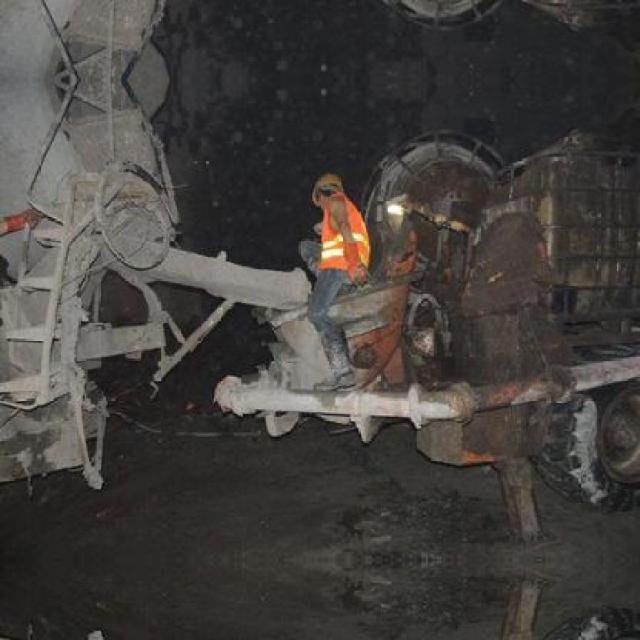helmet: (310, 168, 348, 217)
